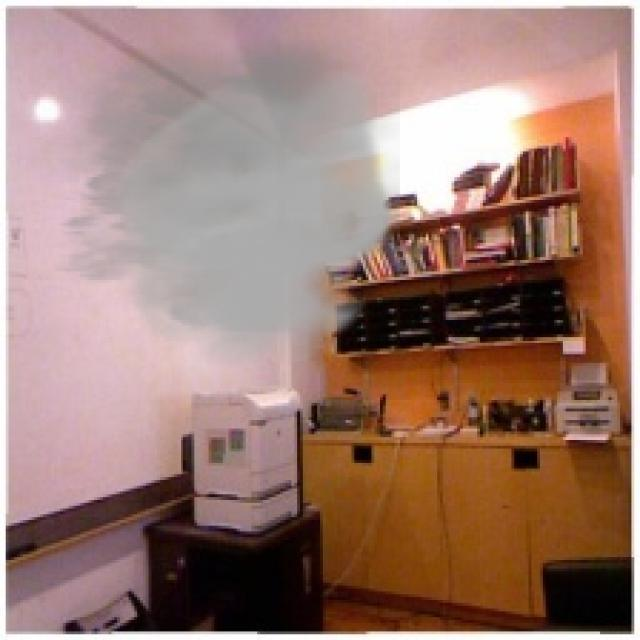Smoke: (17, 26, 400, 368)
